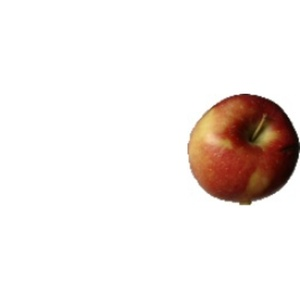maçã braeburn: (186, 93, 300, 206)
